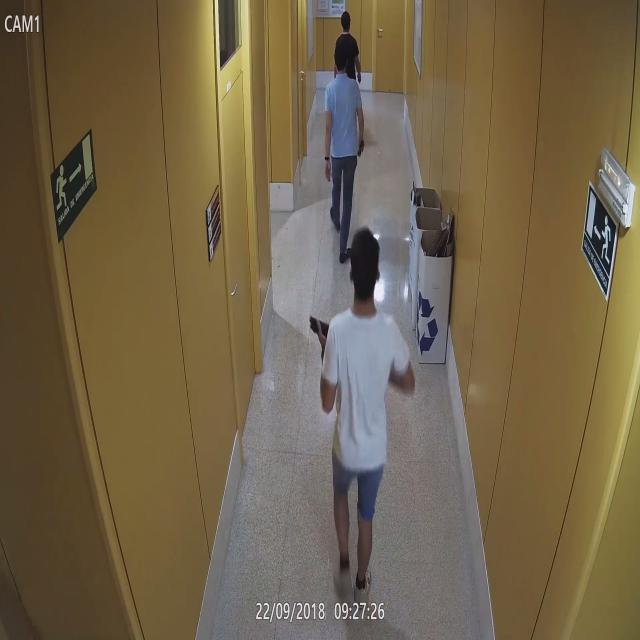Gun: (354, 72, 361, 85)
